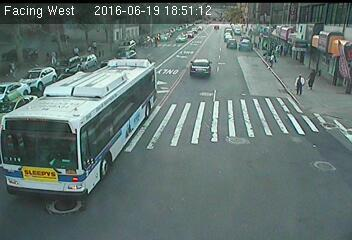neg: (111, 39, 140, 77), (74, 149, 99, 183), (116, 113, 141, 146), (91, 78, 116, 111), (137, 105, 154, 128), (64, 81, 80, 103), (50, 142, 66, 163), (135, 54, 150, 73), (36, 82, 49, 100), (184, 26, 195, 41)
pos: (288, 70, 309, 98), (4, 58, 22, 83), (304, 66, 322, 90), (85, 39, 101, 59), (46, 48, 60, 67), (69, 43, 82, 59)
